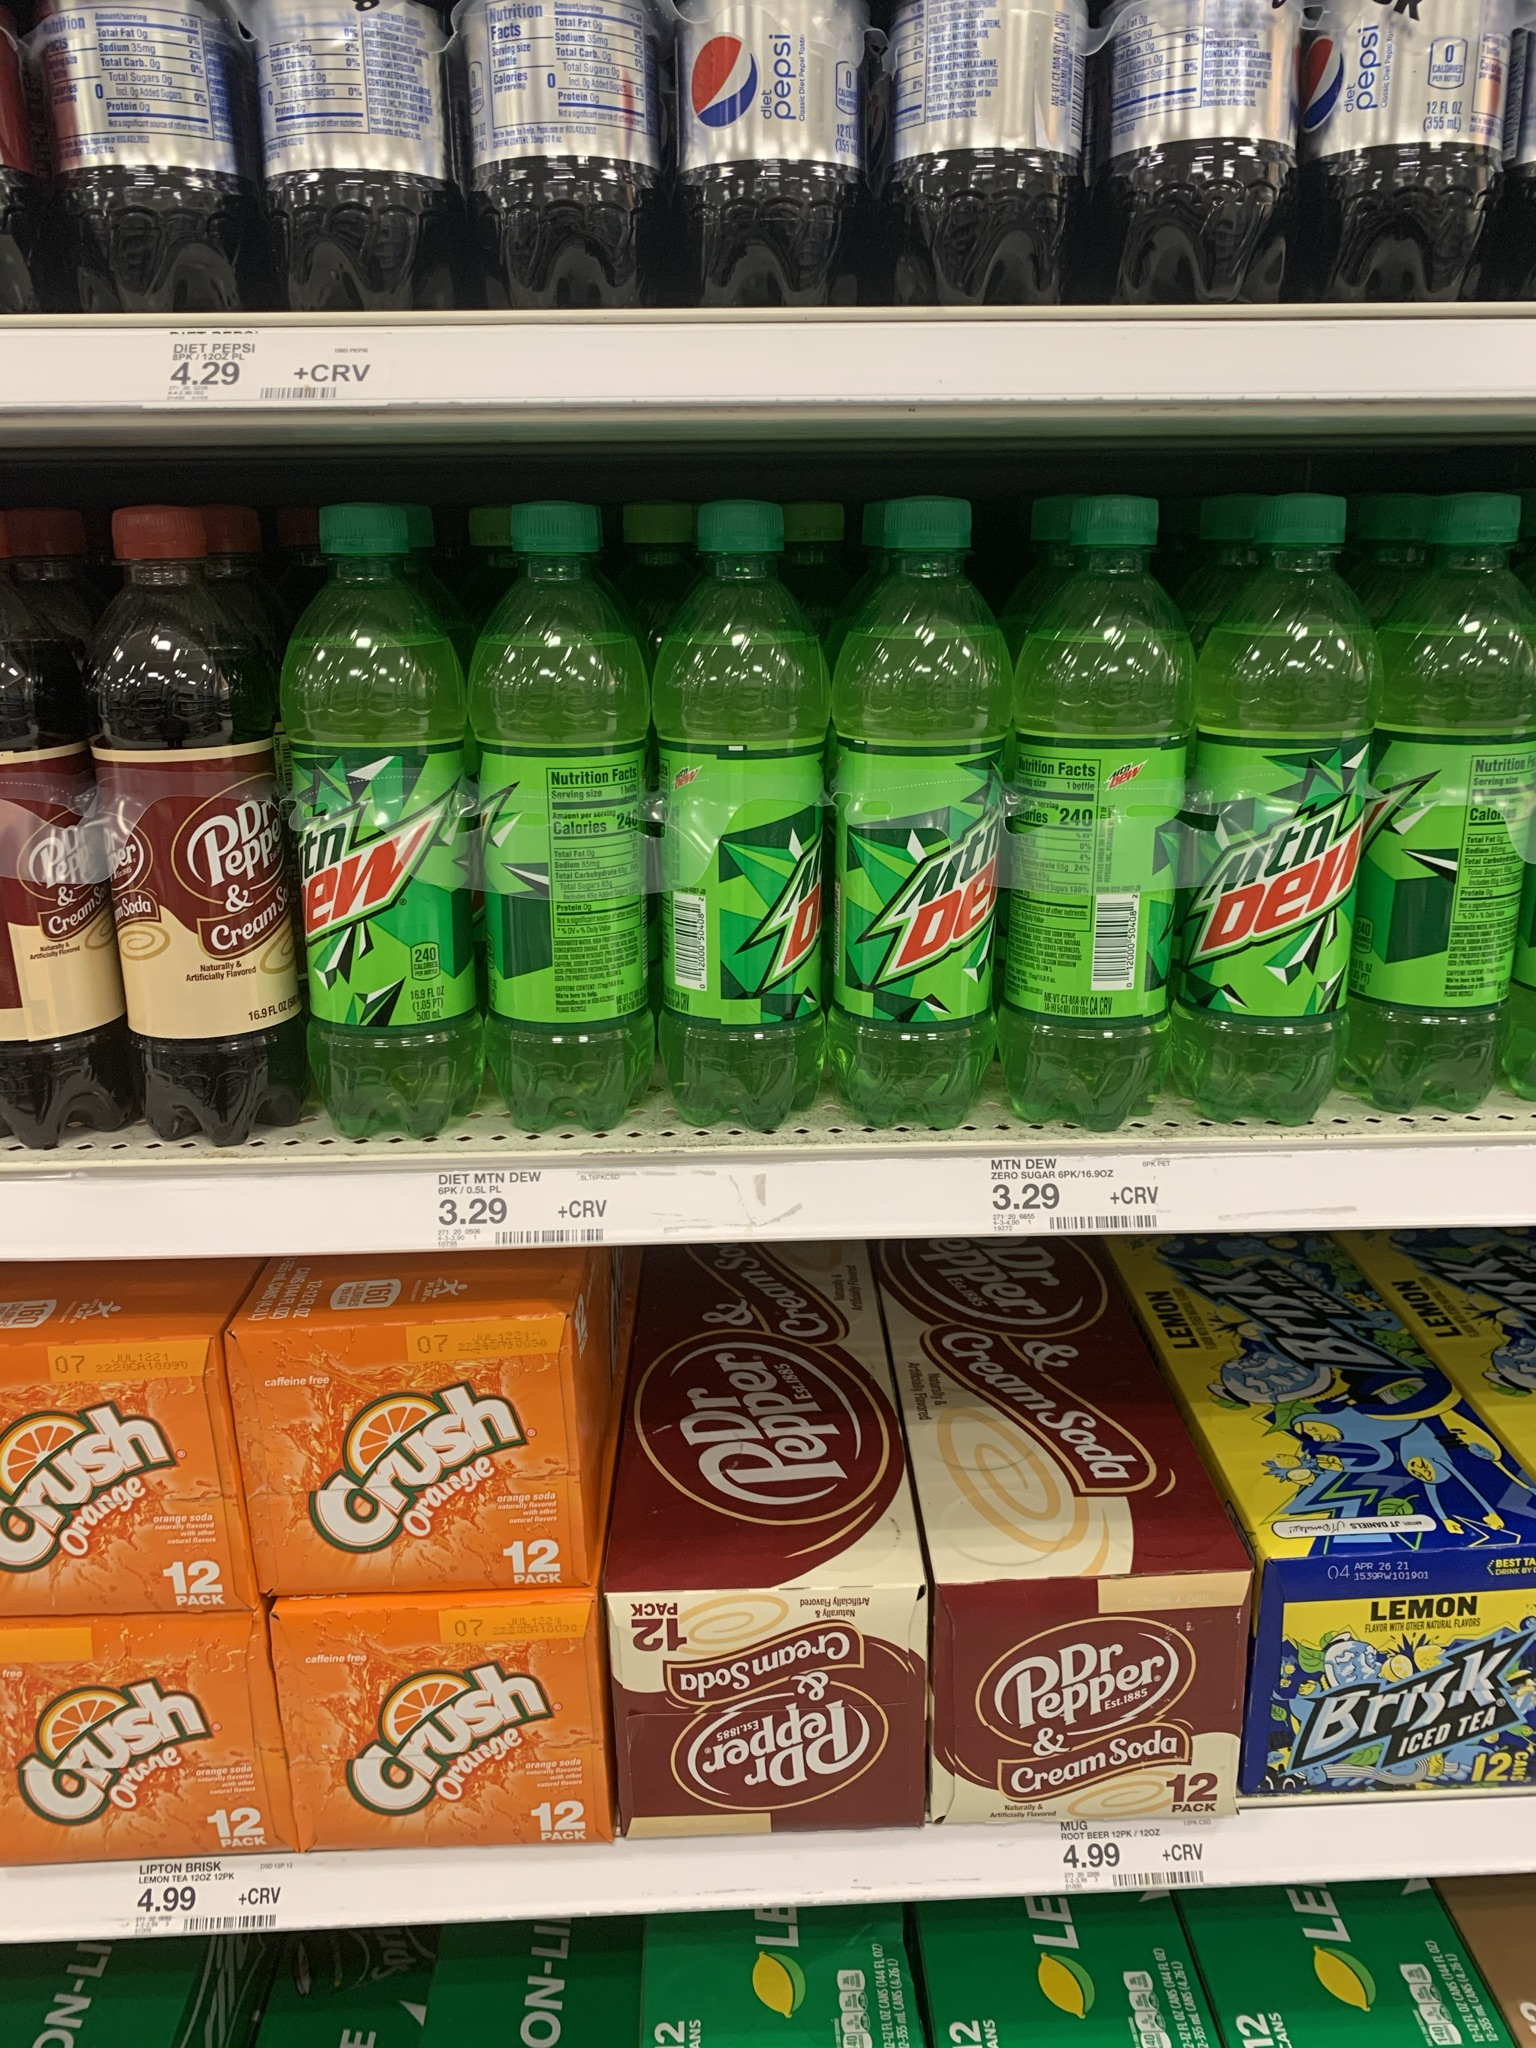crush soda: (234, 1326, 579, 1869), (2, 1350, 292, 1861)
dr pepper soda: (103, 516, 323, 1143), (6, 521, 123, 1116), (954, 1588, 1229, 1800), (620, 1601, 897, 1809)
mountain dew soda: (311, 526, 1492, 1101)
